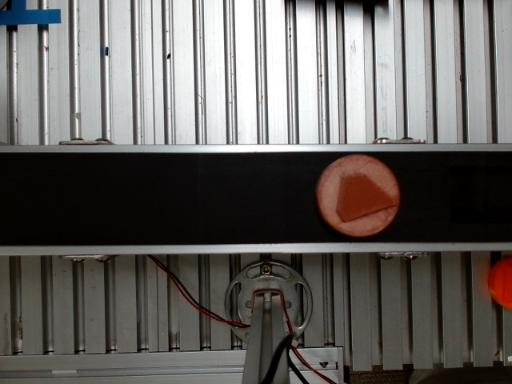Brown_Waper: (316, 155, 400, 237)
Not_Square: (336, 173, 396, 223)
